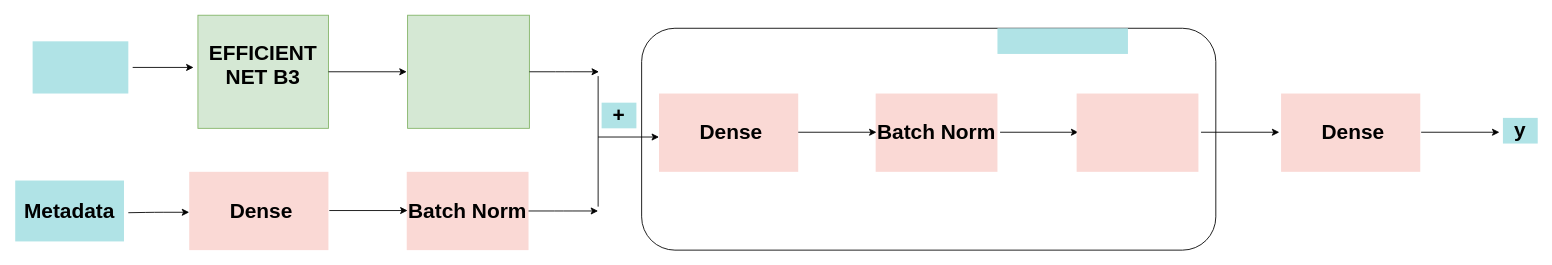
Some shapes in this 1552 by 265 pixel diagram are drawn without their labels. Here are the shapes that lost their labels. From the top down, the centre of each, then its label:
At (x=1062, y=41): "Two Blocks".
At (x=80, y=67): "Input Image".
At (x=468, y=71): "Global Average Pooling".
At (x=1137, y=132): "DropOut".
